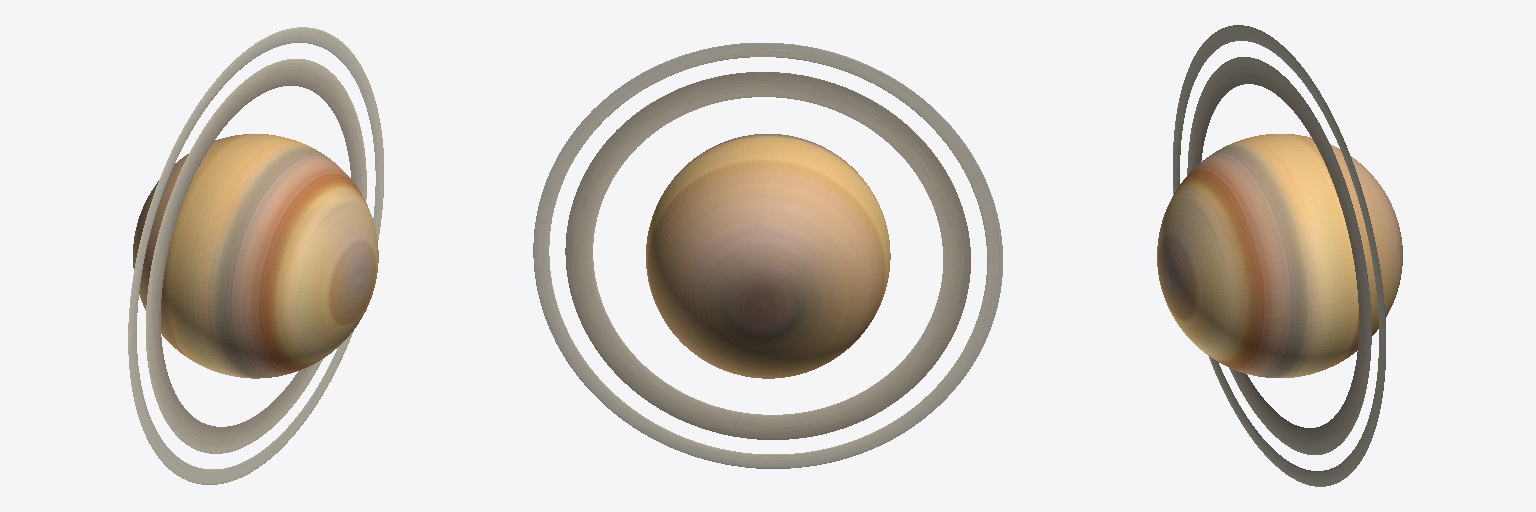
The picture shows the model from 3 angles: view 1: azimuth 30°, elevation 25°; view 2: azimuth 150°, elevation 25°; view 3: azimuth 270°, elevation 25°; orthographic projection.
Parts seen in each view (by area): view 1: 13906_Saturn; view 2: 13906_Saturn; view 3: 13906_Saturn.
Boxes of the visible parts, x1,y1,x2,y2 form: 13906_Saturn: [128, 27, 383, 484]; 13906_Saturn: [533, 43, 1002, 468]; 13906_Saturn: [1157, 25, 1402, 486].
Bounding box in the file's own units: 861 × 966 × 505.
Materials: 1 (1 with a texture image).